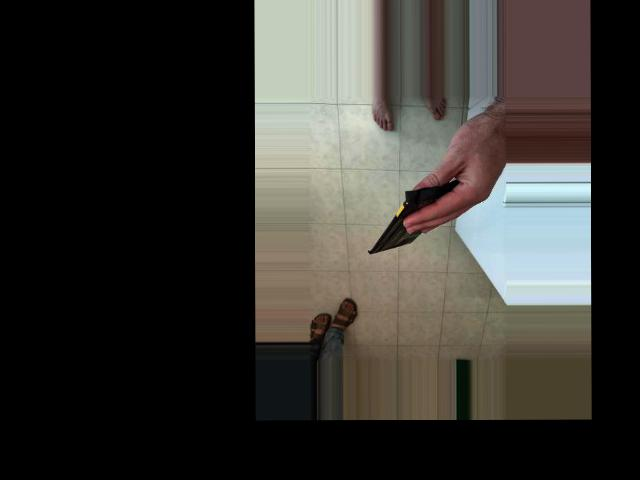chocolate: (315, 207, 406, 302)
